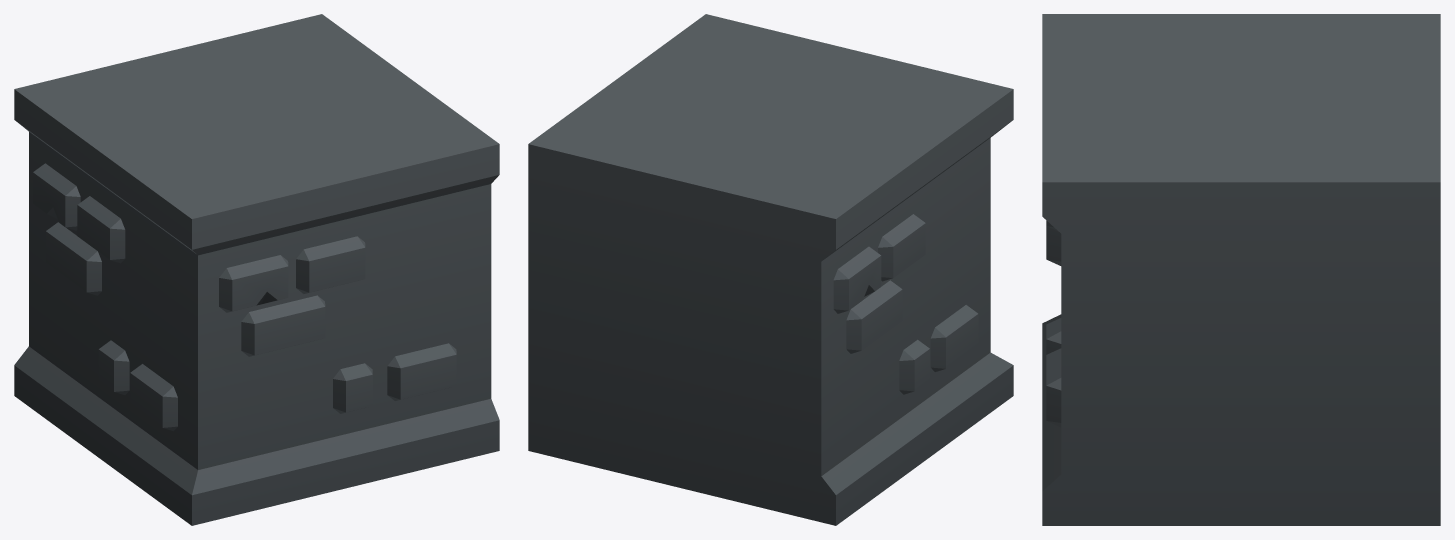
The model's file is floor_foundation_corner.gltf.
3 views of the same model, side by side, from view 1: azimuth 30°, elevation 25°; view 2: azimuth 150°, elevation 25°; view 3: azimuth 270°, elevation 25° (orthographic). The views are drawn at different scales.
Visible parts, largest first — view 1: floor_foundation_corner; view 2: floor_foundation_corner; view 3: floor_foundation_corner.
Part boxes in pixels (left/top/right/bottom): floor_foundation_corner: left=14, top=14, right=499, bottom=525; floor_foundation_corner: left=528, top=14, right=1013, bottom=525; floor_foundation_corner: left=1042, top=14, right=1440, bottom=525.
Size of the model in its own units: 2.1 by 2 by 2.1.
1 material, 1 textured.
